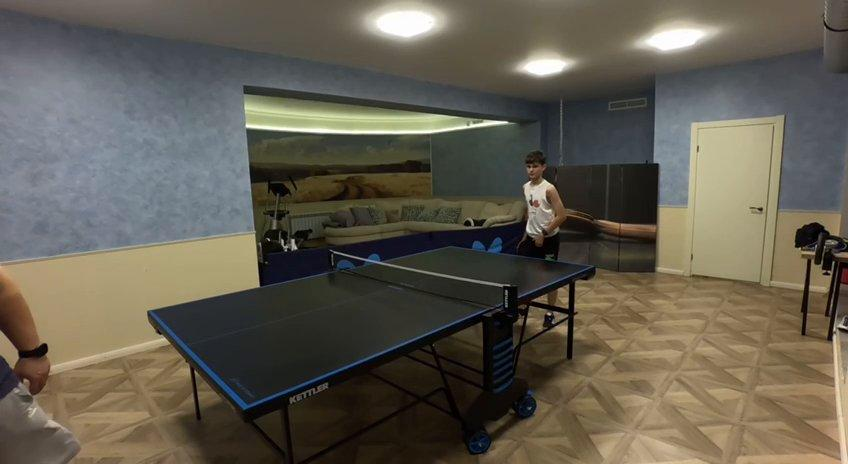Net: (326, 249, 521, 316)
Player1: (518, 151, 566, 259)
Player2: (0, 271, 79, 463)
Table: (147, 247, 597, 419)
